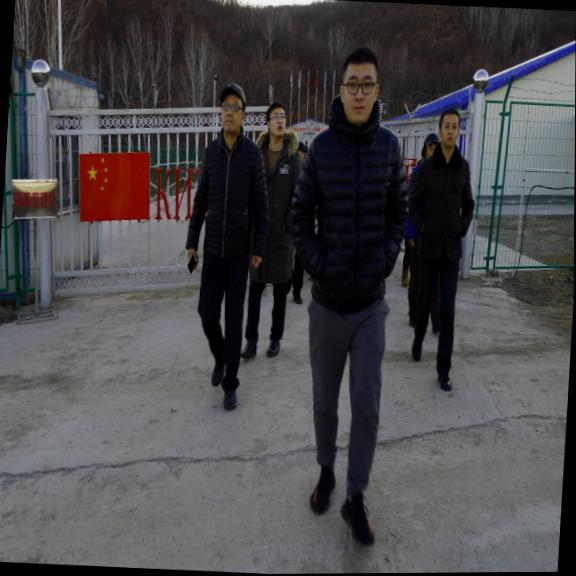no_safety_vest: (283, 114, 413, 316), (184, 129, 274, 268), (244, 133, 306, 286), (406, 146, 478, 264)
